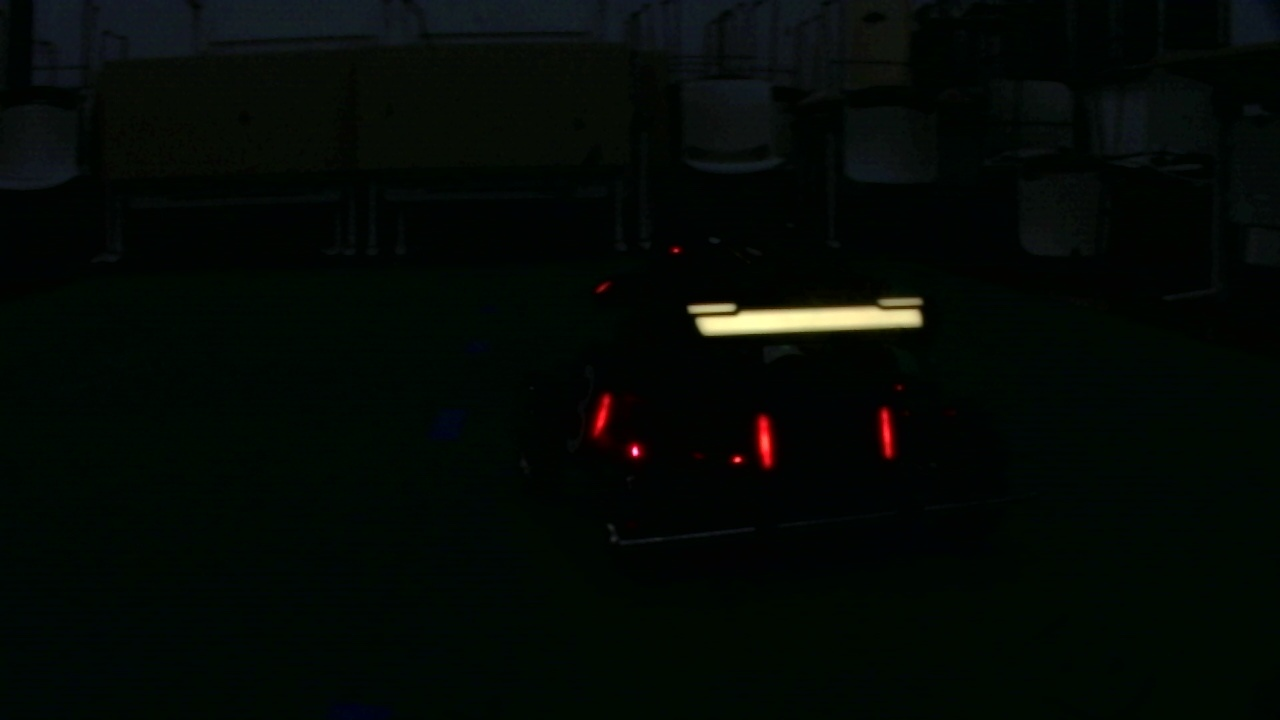lamp: (592, 379, 611, 441), (754, 410, 775, 464), (880, 411, 897, 466)
notpair1: (594, 390, 777, 470)
pair1: (755, 410, 900, 472)
